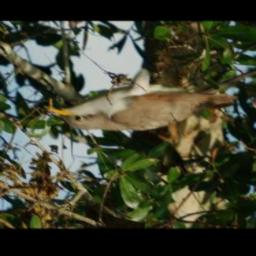Cuckoo: (42, 53, 241, 134)
